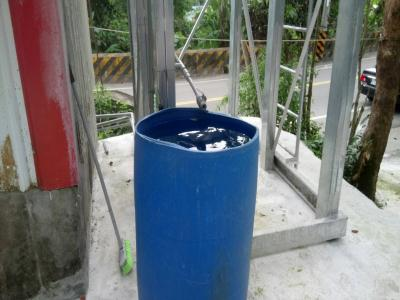bucket: (130, 102, 261, 300)
